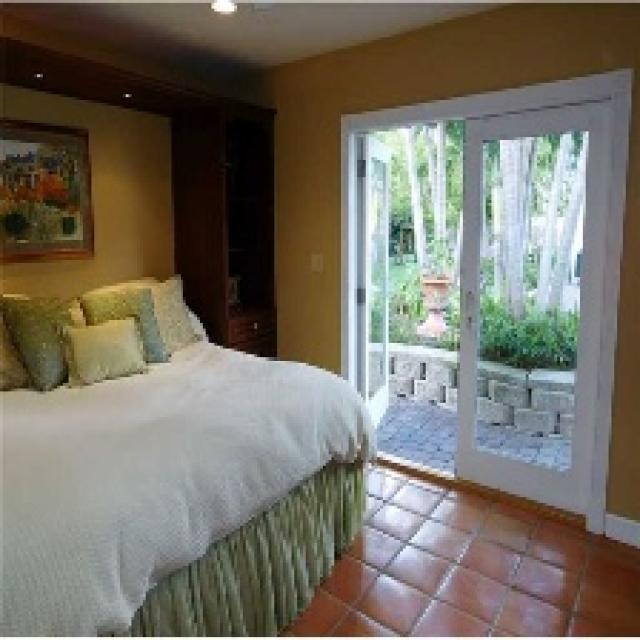Bed: (0, 271, 374, 634)
